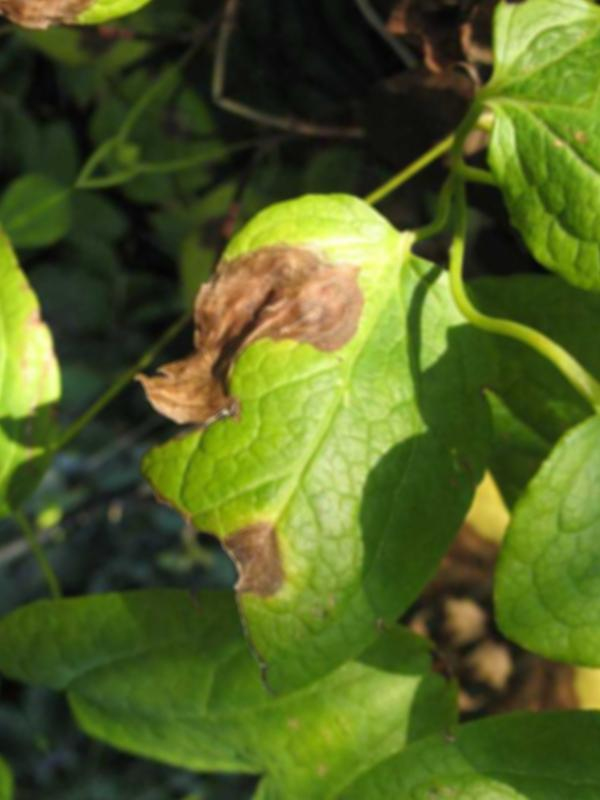Tomato leaf bacterial spot: (37, 122, 600, 711)
